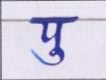u_matra: (31, 47, 68, 66)
